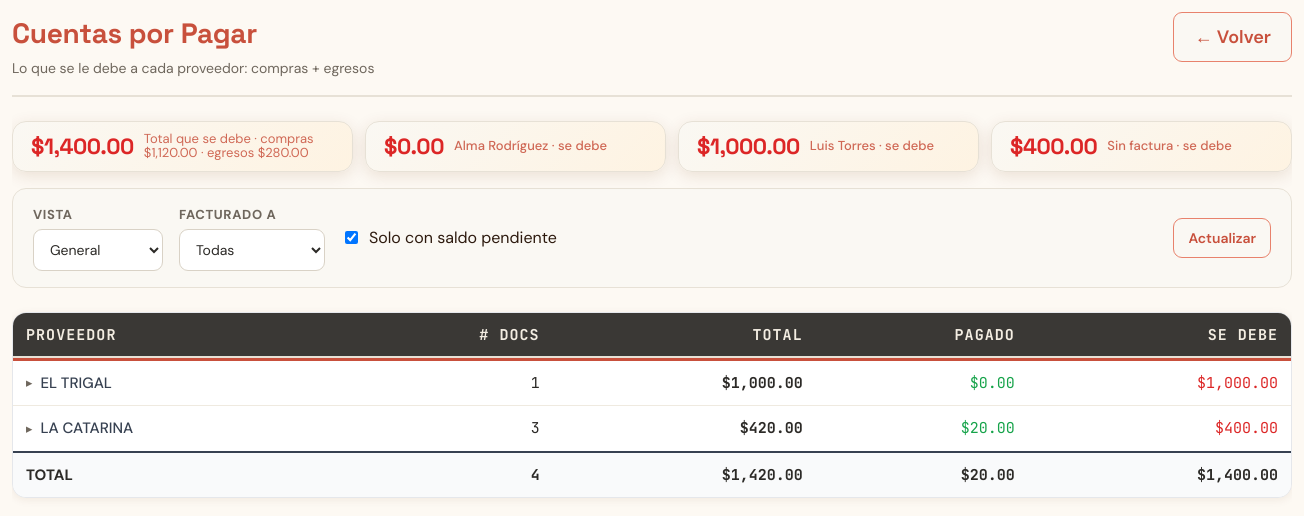
Test: CxP — vistas General / Compras / Egresos › 🔴 vista Egresos: la tabla, el total y el strip cargan solo egresos
The image size is (1304, 516).
Expected: the button "▸ LA CATARINA" is shown, [26,417,133,440]
Select "Egresos" in the dropdown labelled "Vista" at (98, 250), box [33,229,163,271]
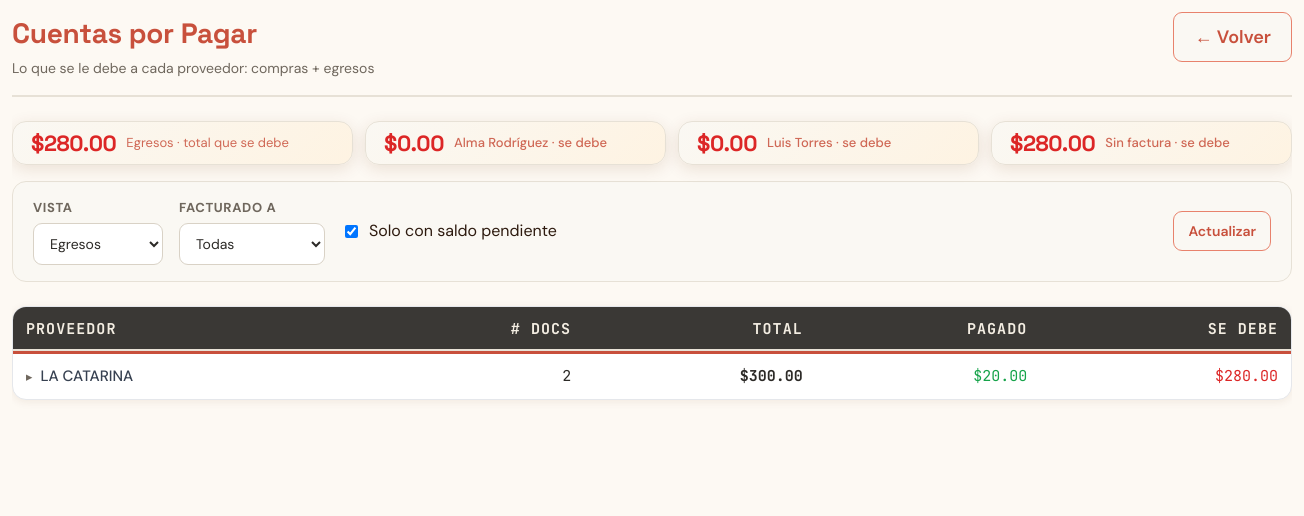
Expected: the text "$280.00" is shown, [1040,352,1291,398]
Expected: the button "EL TRIGAL" is gone
Expected: the 2nd text "$280.00" is shown, [1010,132,1095,154]
